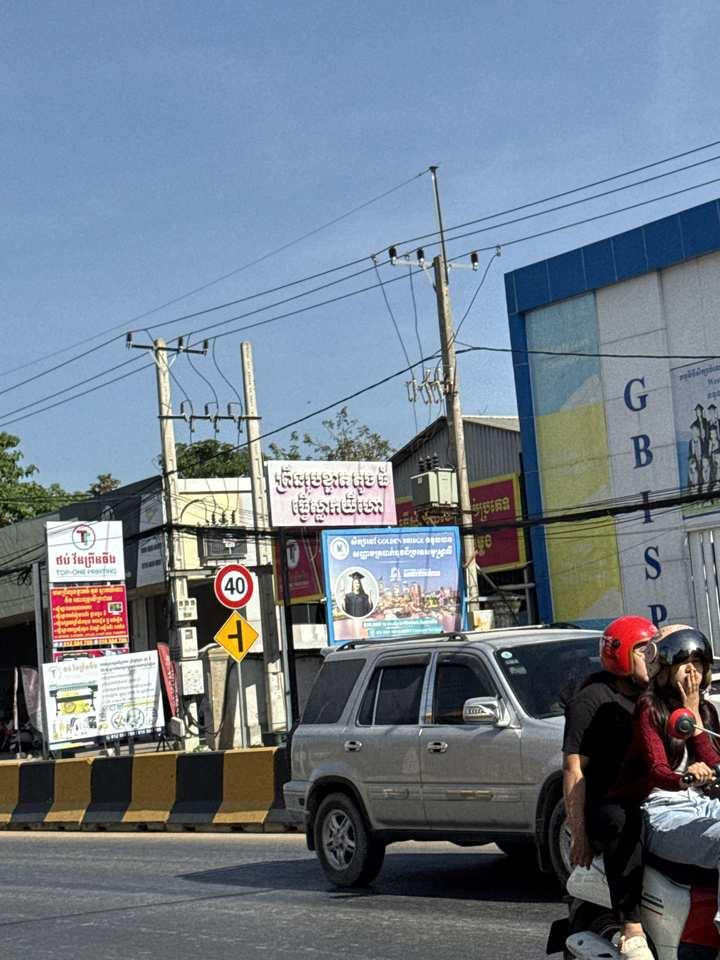side_road_junction_left: (215, 609, 261, 665)
speed_limit_40: (214, 564, 256, 609)
